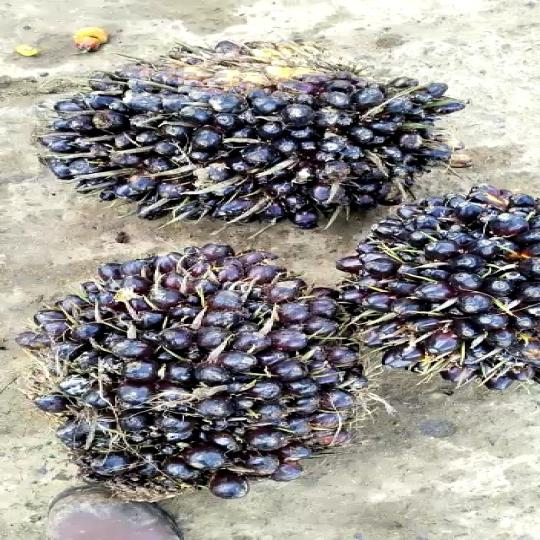mentah: (20, 244, 385, 494), (51, 33, 442, 223), (362, 174, 540, 421)
